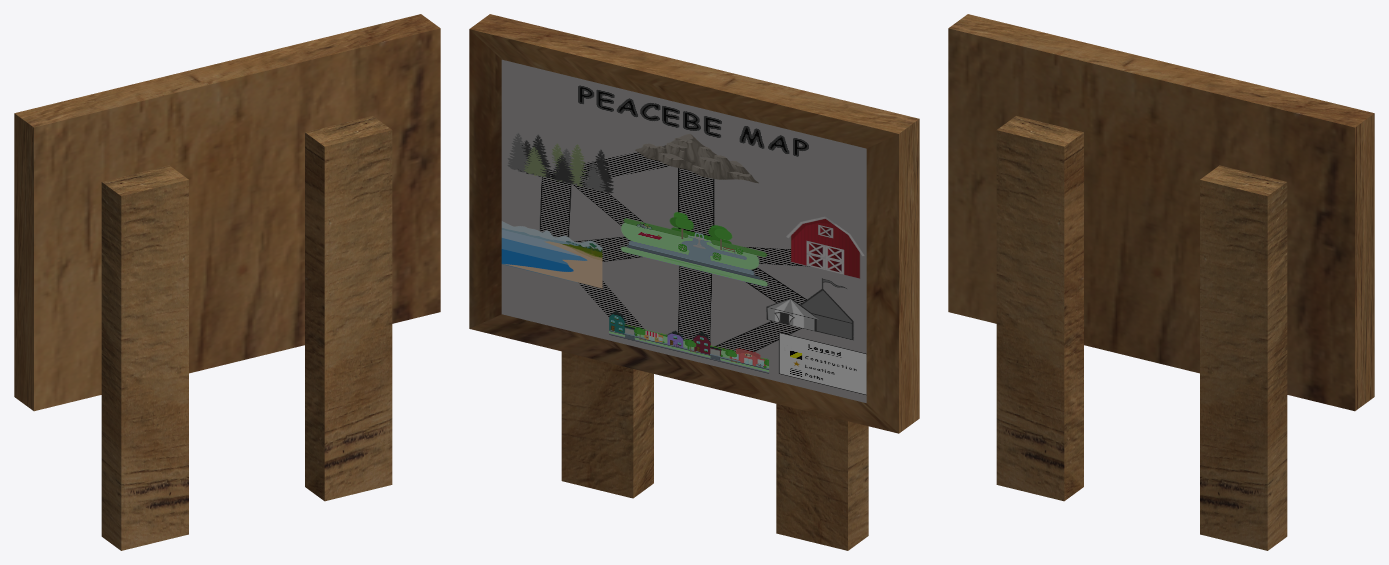
File: model_outsideDirectoryPost.fbx
3 views of the same model, side by side, from view 1: azimuth 30°, elevation 25°; view 2: azimuth 150°, elevation 25°; view 3: azimuth 330°, elevation 25° (orthographic). The views are drawn at different scales.
Visible parts, largest first — view 1: uv_outsidedirectorypost_mergedObject; view 2: uv_outsidedirectorypost_mergedObject; view 3: uv_outsidedirectorypost_mergedObject.
Boxes of the visible parts, x1,y1,x2,y2 form: uv_outsidedirectorypost_mergedObject: [14, 14, 440, 550]; uv_outsidedirectorypost_mergedObject: [469, 14, 919, 550]; uv_outsidedirectorypost_mergedObject: [948, 14, 1374, 550].
Size of the model in its own units: 600 by 600 by 100.
